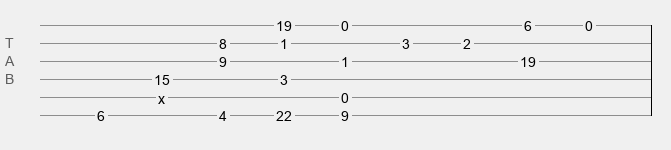0: (341, 18, 349, 28), (341, 90, 349, 100), (585, 18, 593, 28)
1: (280, 36, 288, 46), (341, 54, 349, 64)
15: (154, 72, 170, 82)
19: (276, 18, 292, 28), (520, 54, 536, 64)
2: (463, 36, 471, 46)
22: (276, 108, 292, 118)
3: (280, 72, 288, 82), (402, 36, 410, 46)
4: (219, 108, 227, 118)
6: (97, 108, 105, 118), (524, 18, 532, 28)
8: (219, 36, 227, 46)
9: (219, 54, 227, 64), (341, 108, 349, 118)
x: (158, 91, 165, 99)
